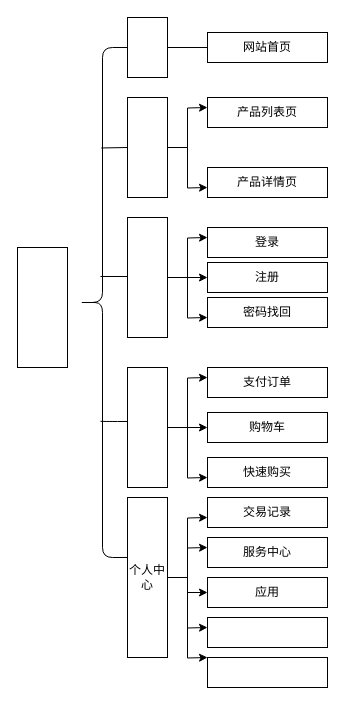
The diagram is 345 pixels wide and 705 high, and some of its shapes have lost their labels. Each missing label, with the centre of its shape:
iwebshop 前台: (x=42, y=307)
个人设置: (x=267, y=672)
产品模块: (x=147, y=147)
商品购买: (x=147, y=427)
登录和注册: (x=147, y=277)
账号资金: (x=267, y=632)
首页: (x=147, y=47)
